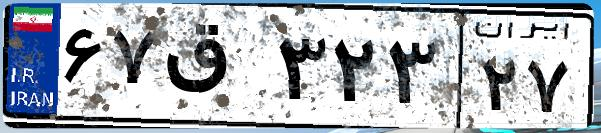2: (330, 28, 385, 110), (475, 38, 525, 113)
3: (270, 28, 330, 110), (385, 28, 445, 110)
6: (57, 26, 110, 100)
7: (525, 38, 570, 115), (110, 28, 158, 98)
ق: (158, 20, 270, 120)
